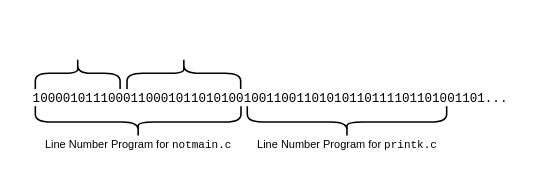
Image size: 540x179. Some labels were removed from this diagram. The box of each missing label's shape, as (x1, y1, x2, y2) in pixels:
Line Number Program Header: (34, 56, 120, 89)
Line Number Program Instructions: (125, 56, 241, 89)
